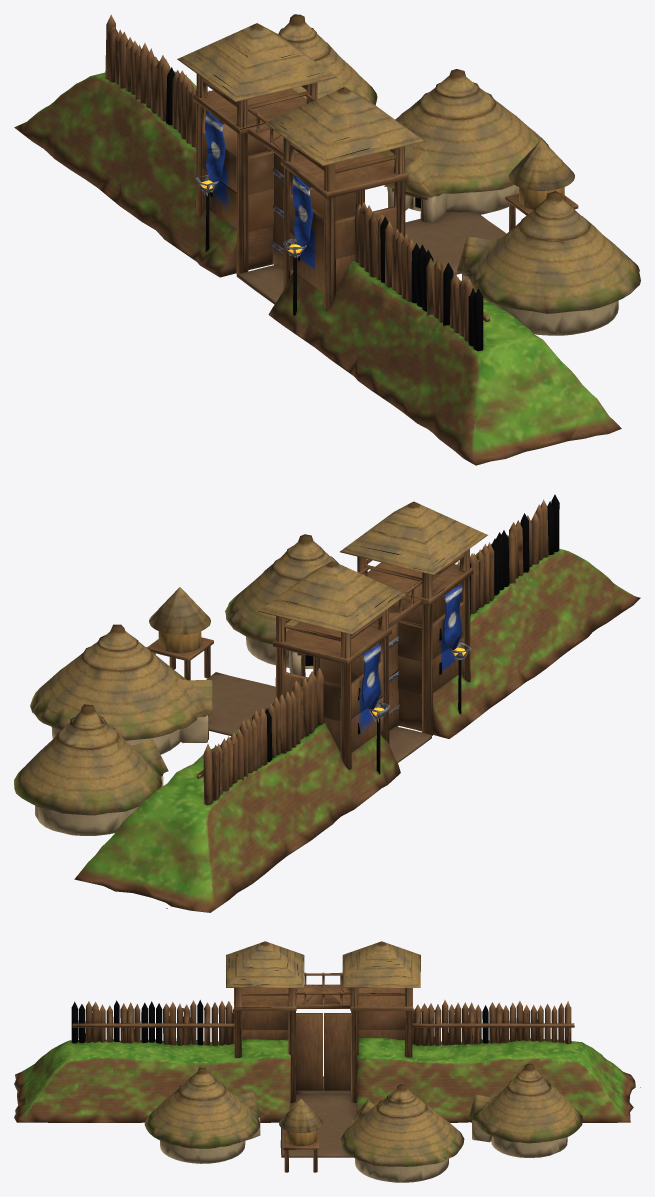
File: iron_city.glb
3 renders of one model, top to bottom at view 1: azimuth 30°, elevation 25°; view 2: azimuth 150°, elevation 25°; view 3: azimuth 270°, elevation 25°, orthographic. The views are drawn at different scales.
Parts seen in each view (by area): view 1: City; view 2: City; view 3: City.
Part boxes in pixels (x1,y1,x2,y2): City: [14, 14, 640, 465]; City: [14, 494, 640, 912]; City: [14, 941, 640, 1182].
Bounding box in the file's own units: 6.11 × 3.75 × 13.99.
2 materials, 1 textured.
